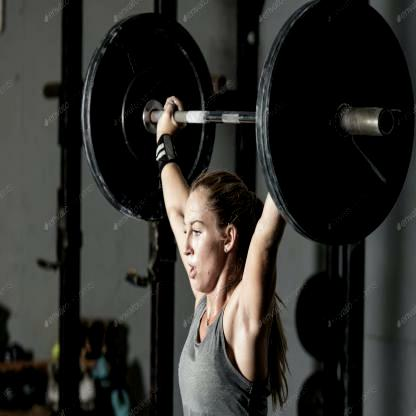Barbell: (377, 105, 398, 141)
